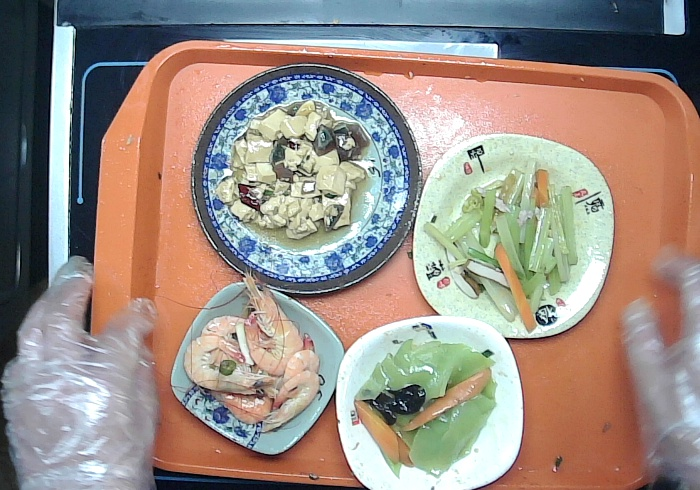NLDX-Bai_Se_Xiao_Fang_Die: (326, 311, 529, 488)
NLDX-Fu_Zi_Fang_Die: (408, 128, 618, 344)
NLDX-Qing_Hua_Xiao_Fang_Die: (165, 276, 347, 460)
NLDX-Qing_Hua_Yuan_Die: (189, 61, 427, 298)
